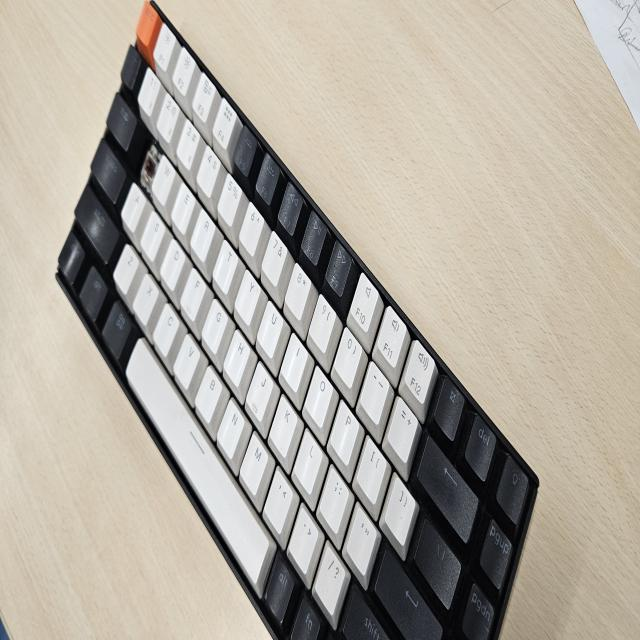C: (142, 137, 158, 190)
